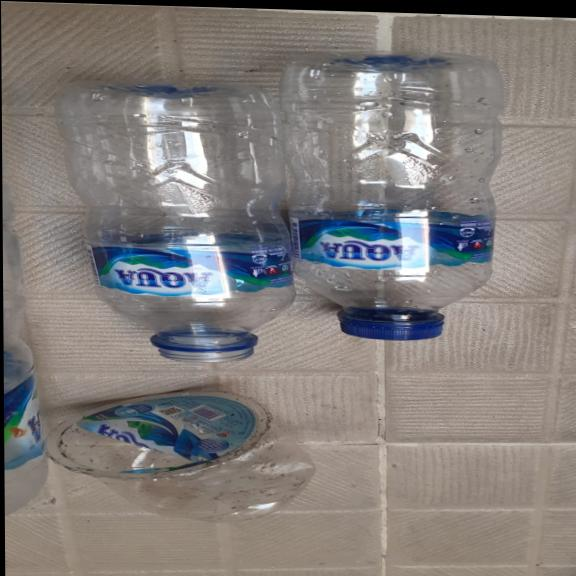Plastik: (63, 78, 297, 361), (283, 47, 505, 344)
